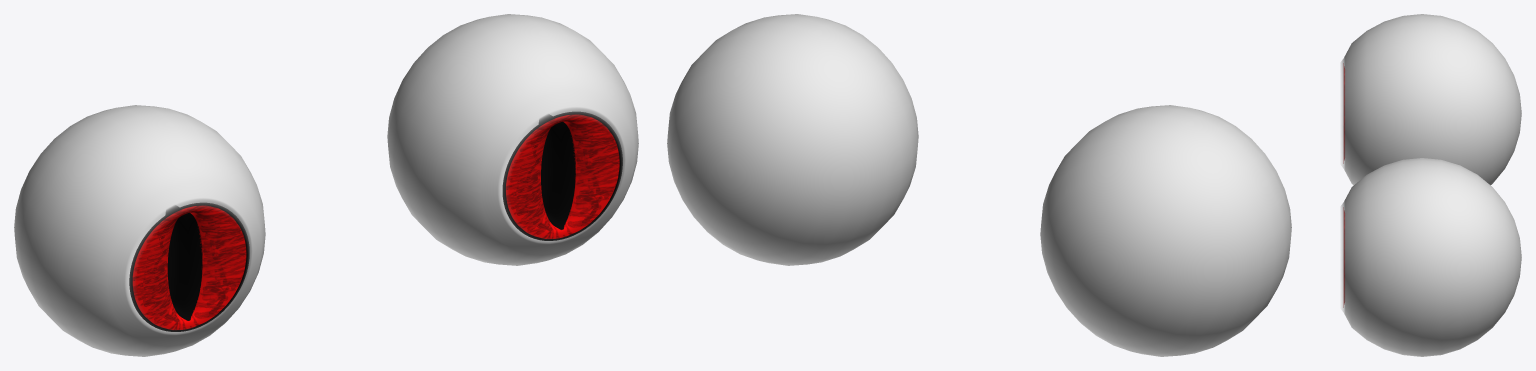
Rendered from eyes4.glb.
3 views of the same model, side by side, from view 1: azimuth 30°, elevation 25°; view 2: azimuth 150°, elevation 25°; view 3: azimuth 270°, elevation 25° (orthographic). The views are drawn at different scales.
Parts seen in each view (by area): view 1: Object_3, Object_3.001, Object_2, Object_2.001; view 2: Object_3, Object_3.001; view 3: Object_3.001, Object_3, Object_2, Object_2.001.
Part boxes in pixels (box(x1,y1,x2,y2)): Object_3: box(14, 105, 265, 356); Object_3.001: box(387, 14, 638, 265); Object_2: box(129, 202, 249, 331); Object_2.001: box(502, 111, 622, 240); Object_3: box(1040, 105, 1291, 356); Object_3.001: box(667, 14, 918, 265); Object_3.001: box(1341, 158, 1521, 356); Object_3: box(1341, 14, 1521, 185); Object_2: box(1343, 63, 1344, 163); Object_2.001: box(1343, 207, 1344, 307).
Bounding box in the file's own units: 0.2843 × 0.1049 × 0.1062.
Materials: 2 (2 with a texture image).
